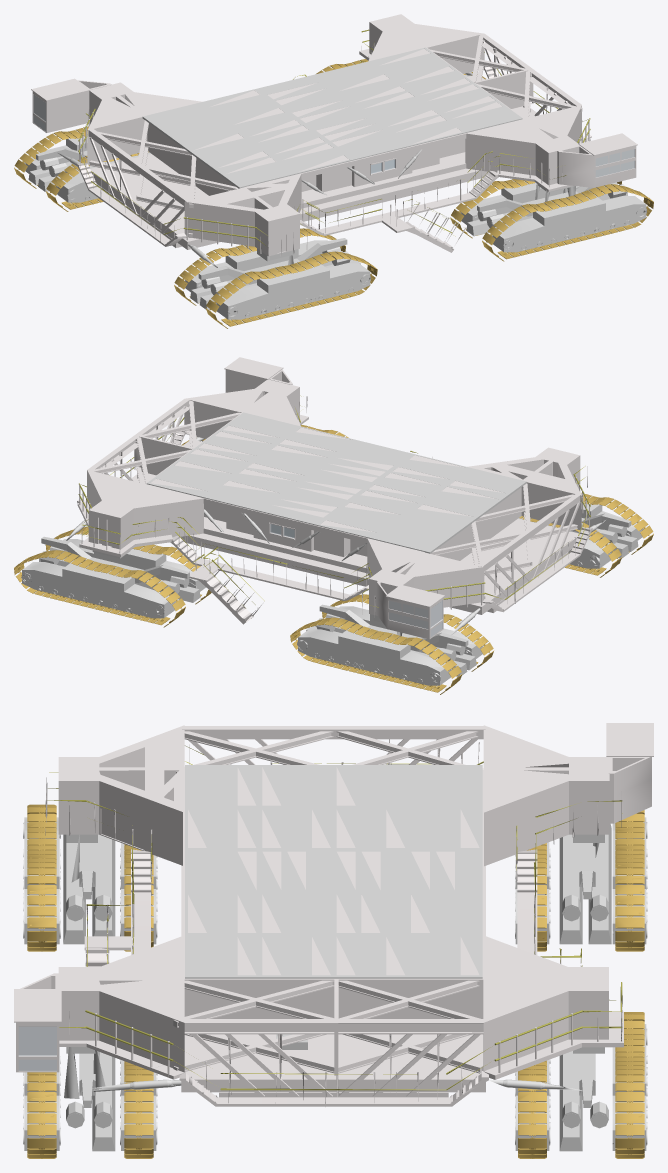
Rendered from crawler.glb.
3 views of the same model, one above another, from view 1: azimuth 30°, elevation 25°; view 2: azimuth 150°, elevation 25°; view 3: azimuth 270°, elevation 25° (orthographic). The views are drawn at different scales.
Visible parts, largest first — view 1: polySurface1; view 2: polySurface1; view 3: polySurface1.
Part boxes in pixels (left/top/right/bottom): polySurface1: left=14, top=14, right=653, bottom=328; polySurface1: left=14, top=357, right=653, bottom=694; polySurface1: left=14, top=723, right=653, bottom=1158.
Bounding box in the file's own units: 8.77 × 1.7 × 7.2.
2 materials, 2 textured.
